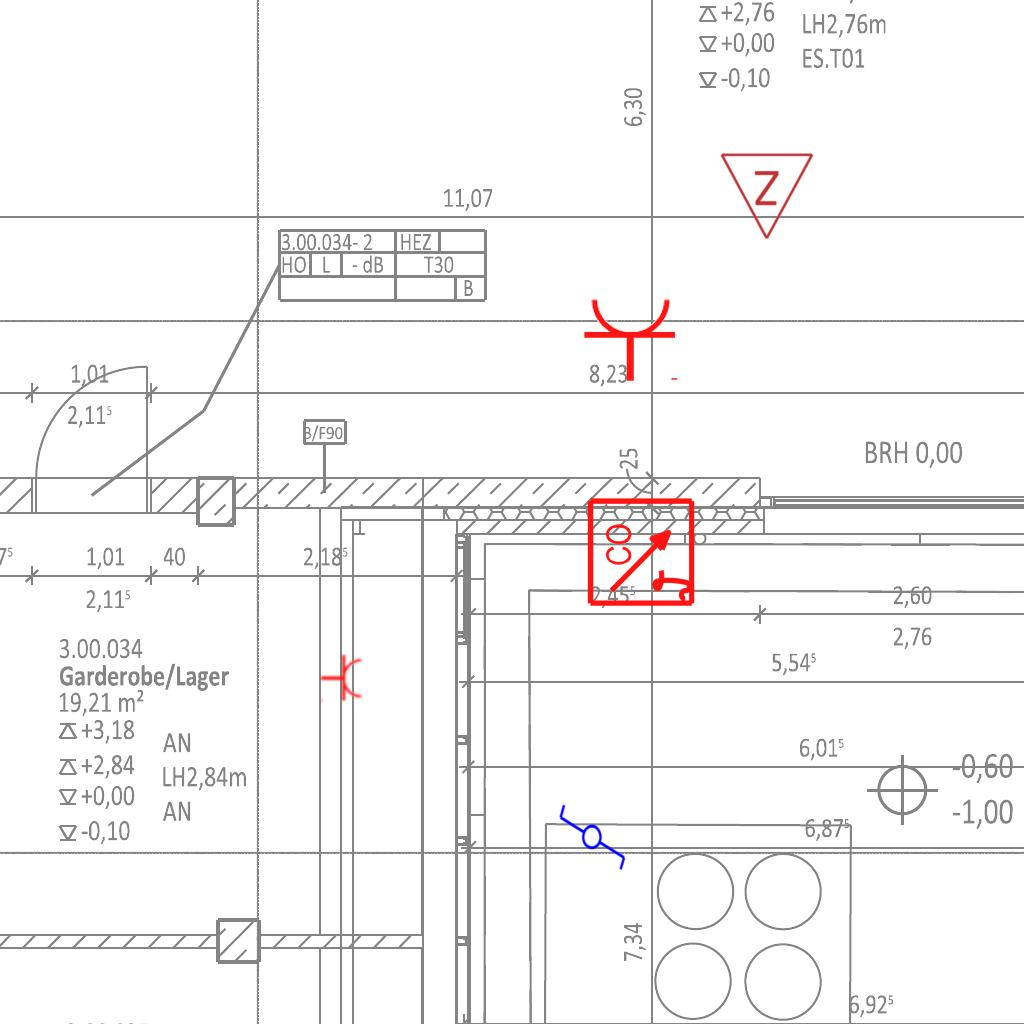ROA_Rauchmelder_optisch_mit_Signalgeber_(Sockelsirene): (586, 495, 699, 608)
Schukosteckdose_einfach: (582, 296, 682, 383), (320, 654, 363, 704)
Wechselschalter: (557, 794, 629, 872)
Zimmersignalleuchte: (719, 146, 817, 246)
